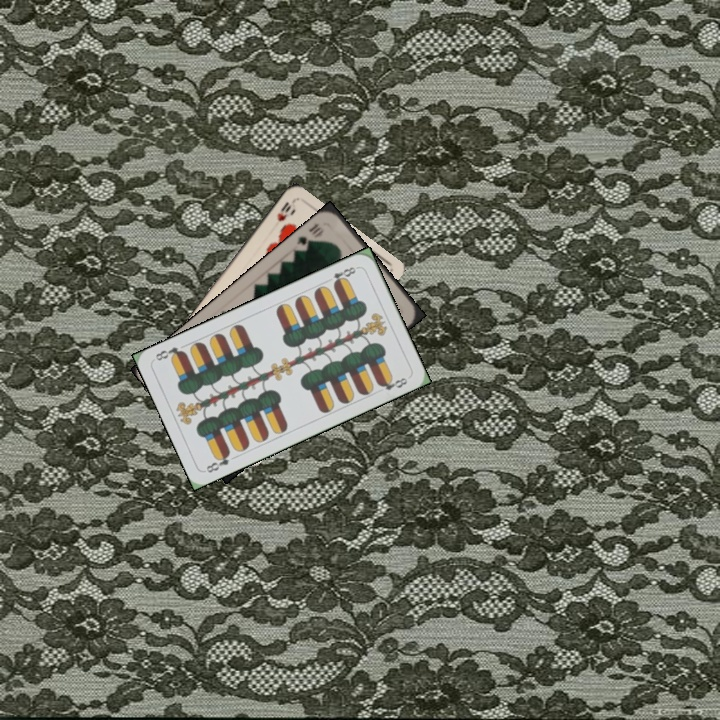E8: (202, 447, 233, 475), (328, 263, 361, 288)
G10: (293, 219, 327, 251)
H10: (273, 197, 294, 224)
